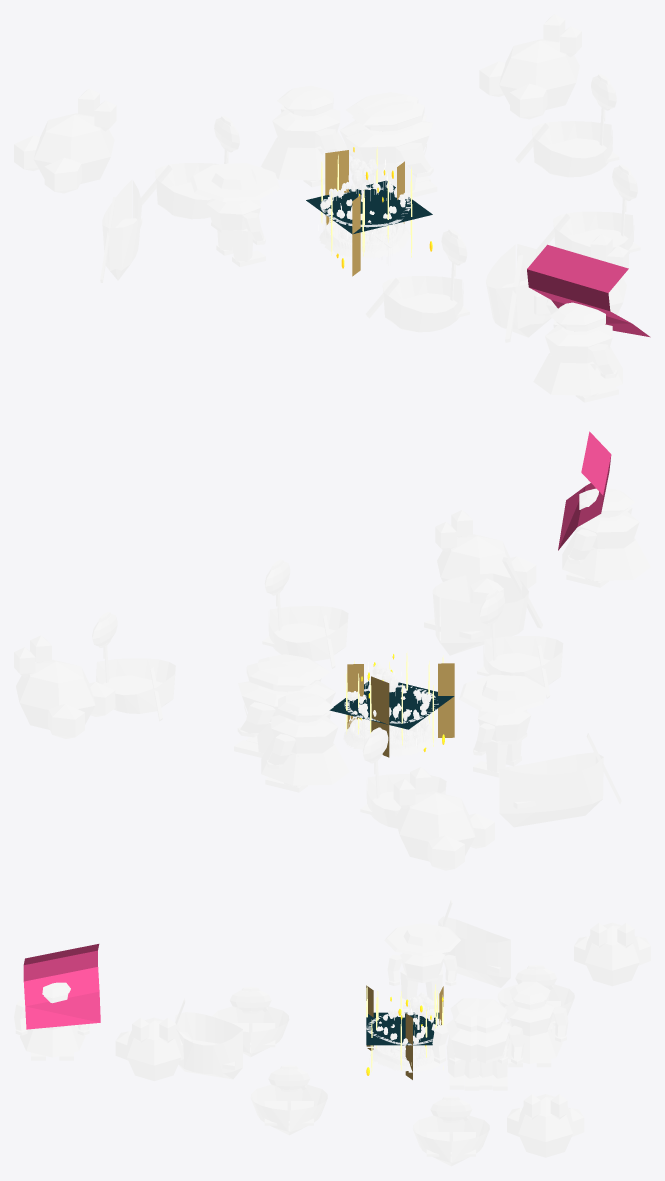
Rendered from ile-marais-v5.glb.
3 views of the same model, one above another, from view 1: azimuth 30°, elevation 25°; view 2: azimuth 150°, elevation 25°; view 3: azimuth 270°, elevation 25° (orthographic). The views are drawn at different scales.
Parts seen in each view (by area): view 1: ile_copie6.001, ile_copie5.002, ile_anime2.028, ile_copie0.017, ile_anime4.022, ile_copie1.012, ile_copie2.007, ile_copie4.004, ile_banniere0.014, ile_corps.028, ile_anime5.018, ile_anime0.028 (+7 smaller); view 2: ile_anime1.028, ile_copie0.017, ile_copie5.002, ile_copie6.001, ile_anime2.028, ile_anime4.022, ile_anime0.028, ile_anime5.018, ile_anime6.004, ile_copie4.004, ile_copie2.007, ile_anime3.026 (+7 smaller); view 3: ile_banniere0.014, ile_anime4.022, ile_copie0.017, ile_anime0.028, ile_anime5.018, ile_copie4.004, ile_copie6.001, ile_copie5.002, ile_anime3.026, ile_anime6.004, ile_anime1.028, ile_copie1.012 (+7 smaller).
Boxes of the visible parts, x1,y1,x2,y2 form: ile_copie6.001: (479,14,581,119); ile_copie5.002: (14,88,116,193); ile_anime2.028: (533,302,622,402); ile_copie0.017: (261,85,350,187); ile_anime4.022: (190,163,279,266); ile_copie1.012: (346,101,437,197); ile_copie2.007: (366,229,469,332); ile_copie4.004: (515,74,619,177); ile_banniere0.014: (527,244,650,337); ile_corps.028: (319,158,410,265); ile_anime5.018: (537,164,640,261); ile_anime0.028: (486,244,551,342); ile_anime1.028: (499,733,621,827); ile_copie0.017: (261,692,349,792); ile_copie5.002: (393,767,494,870); ile_copie6.001: (14,635,115,738); ile_anime2.028: (562,488,650,587); ile_anime4.022: (459,674,547,777); ile_anime0.028: (424,557,542,655); ile_anime5.018: (262,559,348,668); ile_anime6.004: (435,510,536,603); ile_copie4.004: (92,612,175,721); ile_copie2.007: (477,589,563,698); ile_anime3.026: (234,660,315,757); ile_banniere0.014: (23,944,100,1029); ile_anime4.022: (384,923,460,1008); ile_copie0.017: (503,981,568,1067); ile_anime0.028: (175,998,242,1079); ile_anime5.018: (250,1065,327,1135); ile_copie4.004: (412,1096,489,1166); ile_copie6.001: (507,1094,584,1157); ile_copie5.002: (574,922,650,986); ile_anime3.026: (447,999,524,1090); ile_anime6.004: (115,1017,192,1081); ile_anime1.028: (438,899,510,987); ile_copie1.012: (432,998,509,1089).
Bounding box in the file's own units: 13.52 × 3.36 × 16.51.
